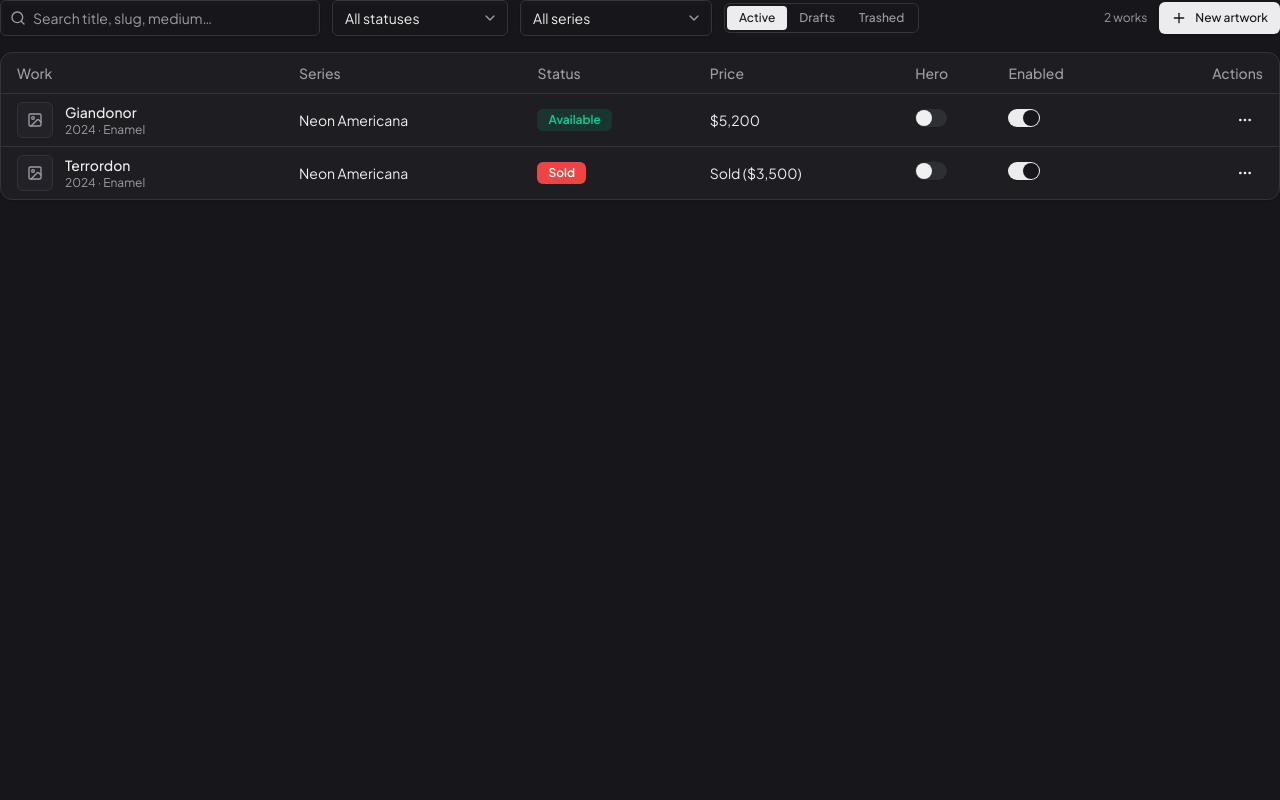
Test: <CatalogView/> fixed contracts › trash confirmation can be cancelled without deleting
Click the button named "actions for": x=1245, y=120 x1=1227 y1=102 x2=1263 y2=138
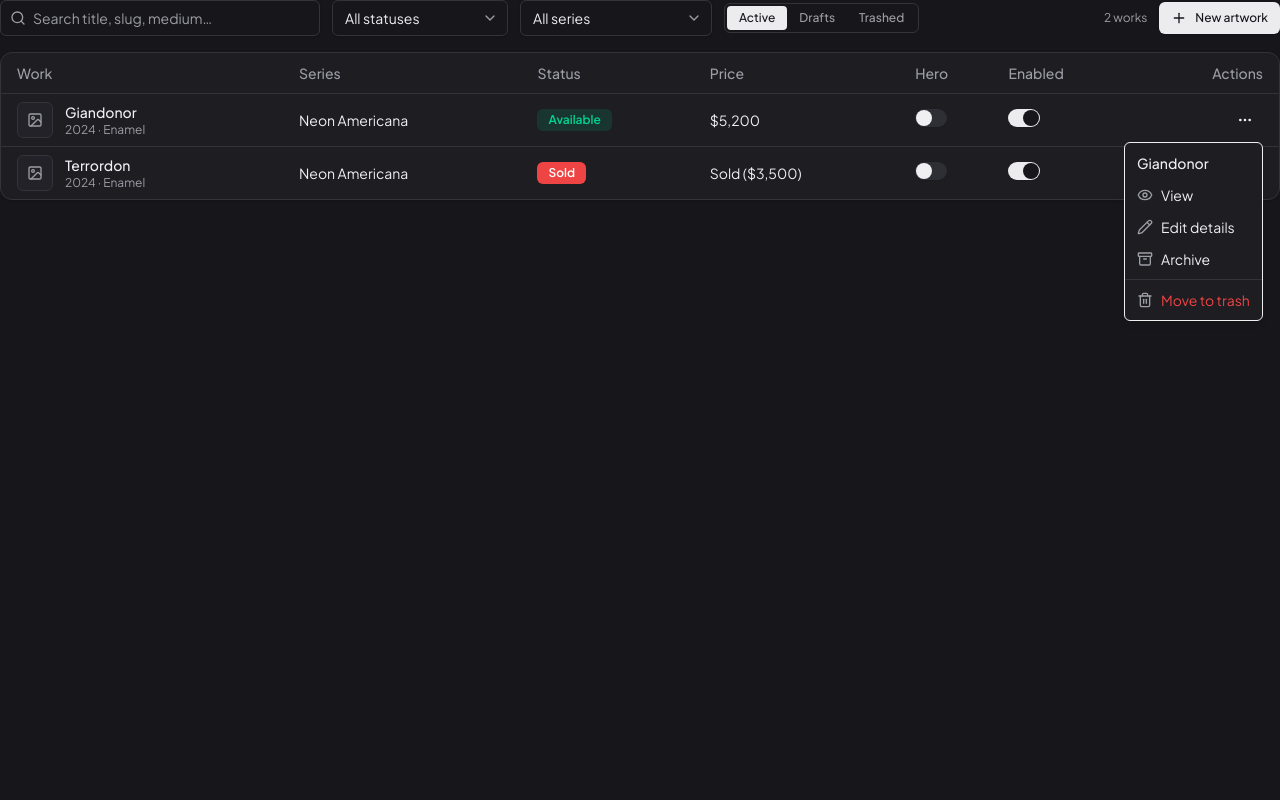
Click the menu item "Move to trash": x=1193, y=300 x1=1137 y1=291 x2=1250 y2=309
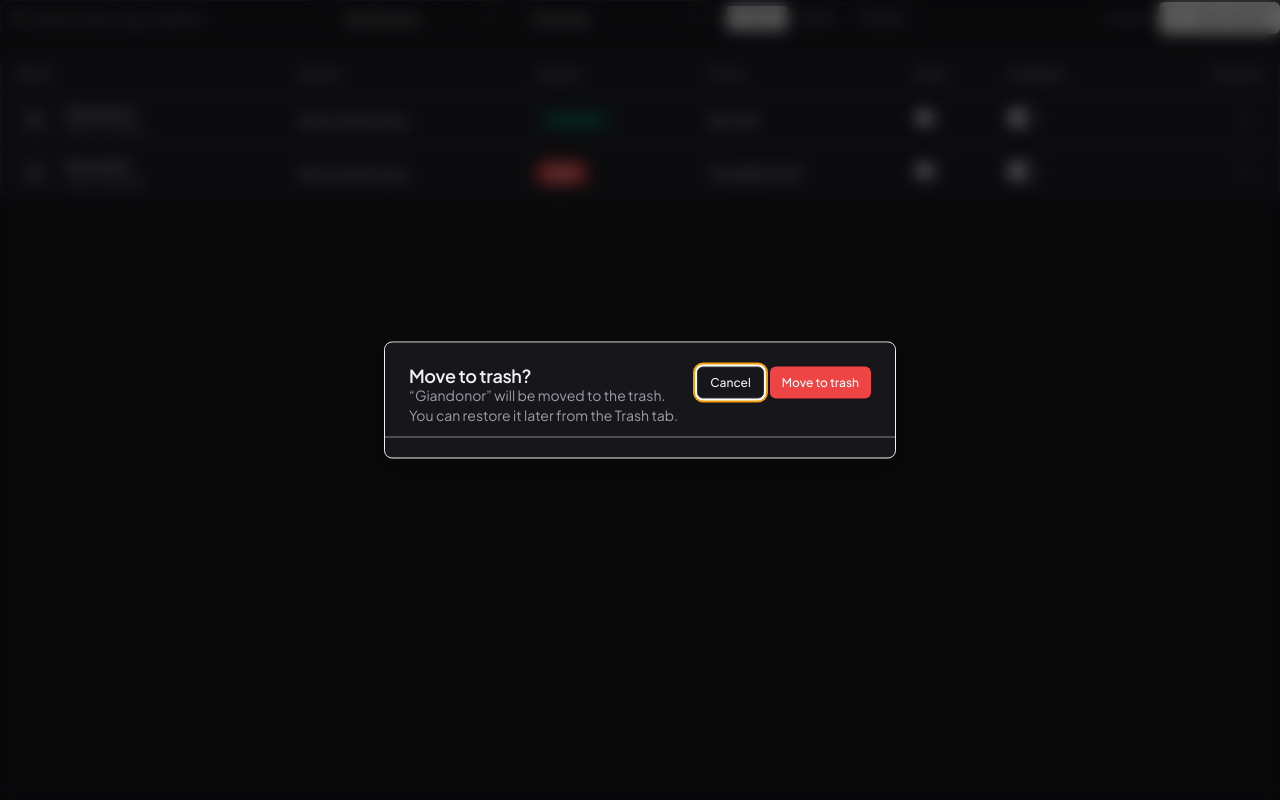
Click the button "Cancel": x=731, y=382 x1=697 y1=366 x2=764 y2=398
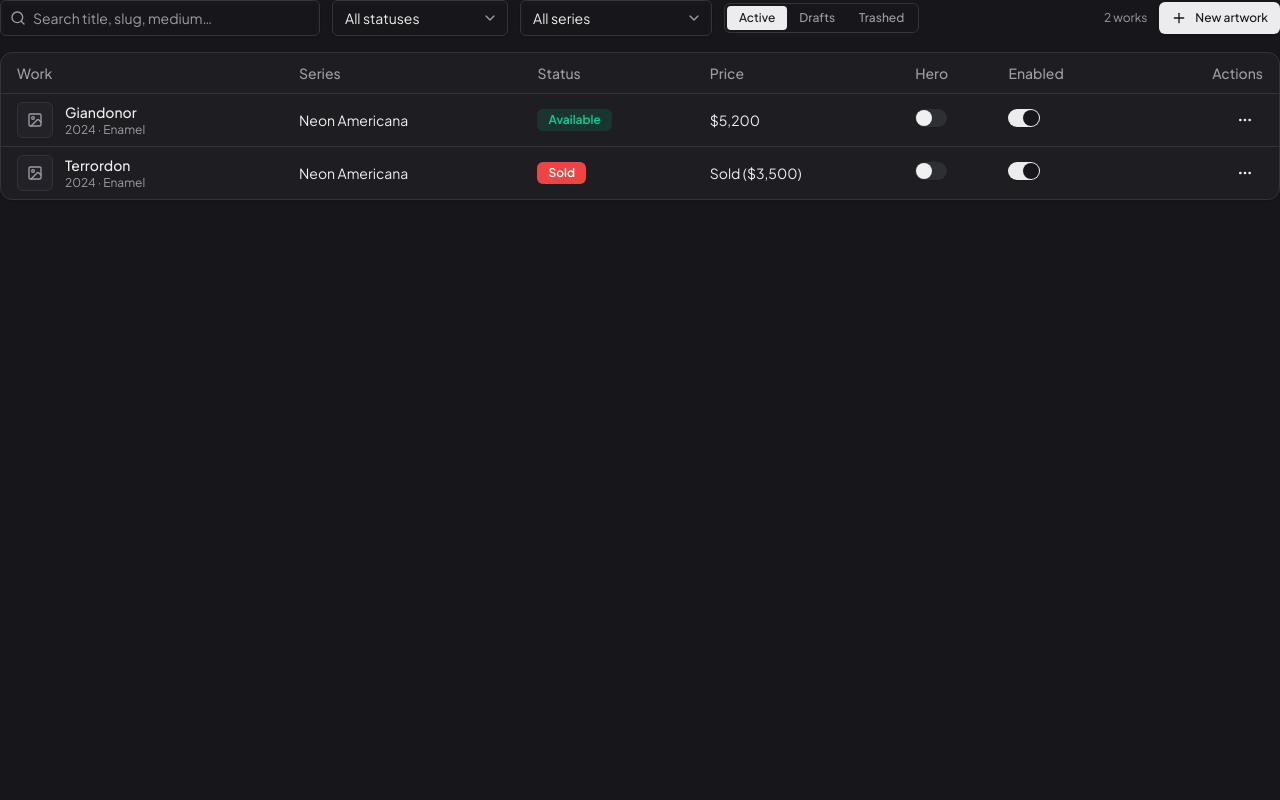
Check: the heading "Move to trash?" is gone
